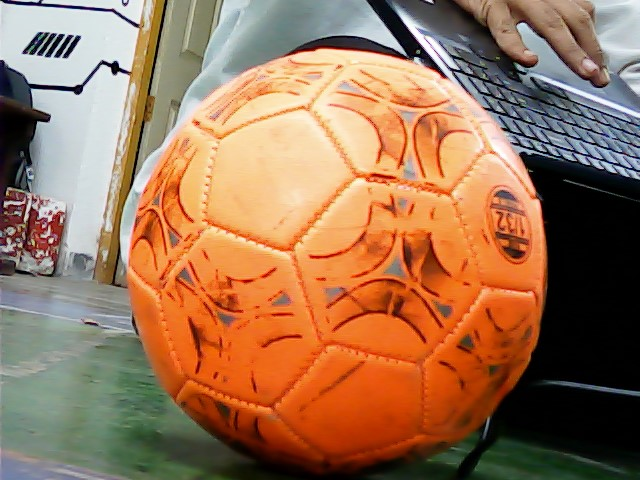Orange_ball: (115, 49, 563, 480)
